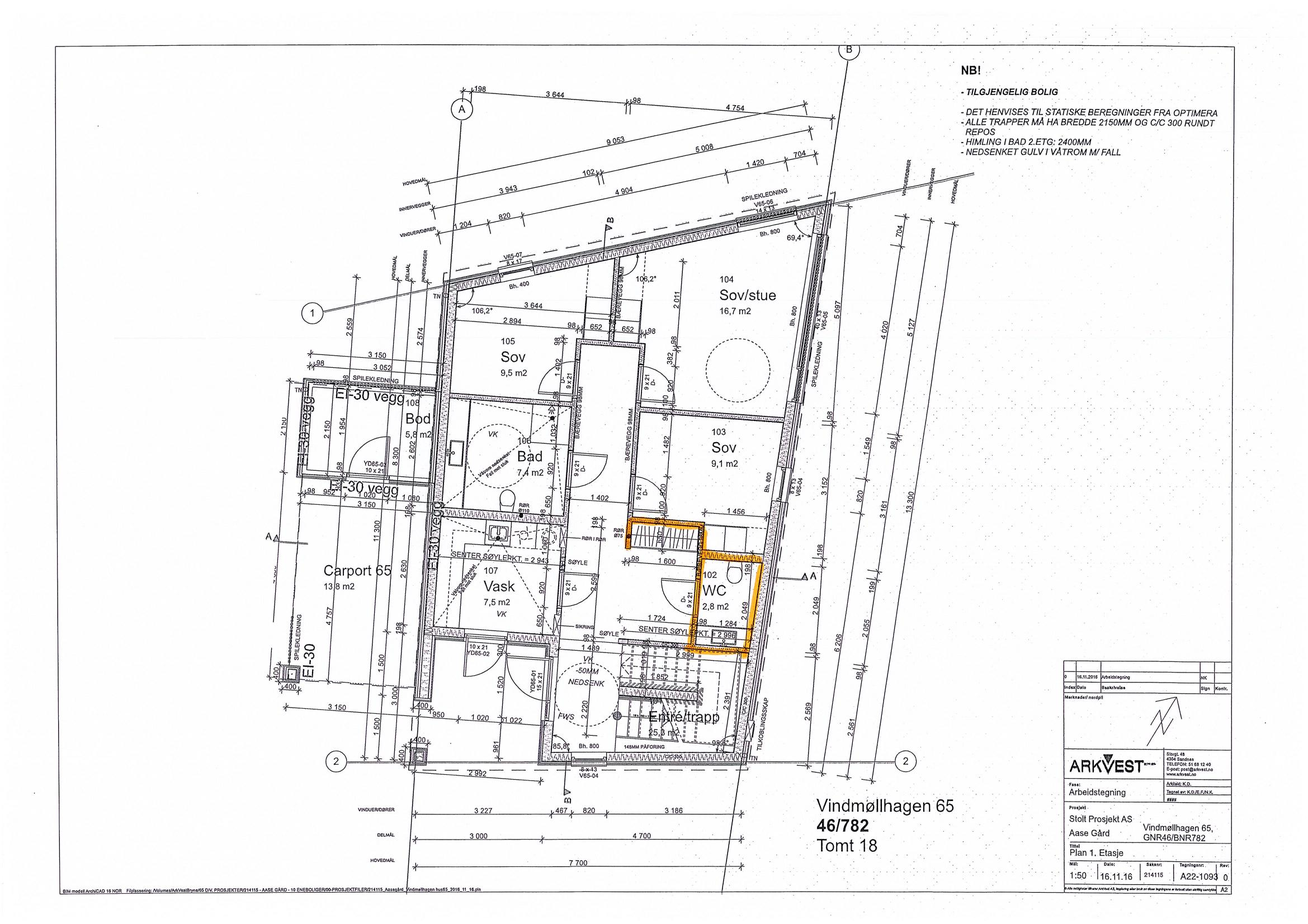plantegning: (273, 190, 835, 773)
